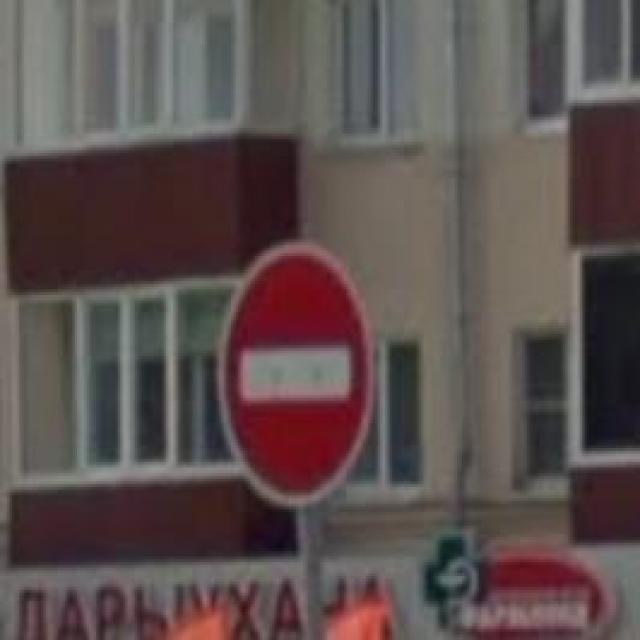Zakaz wjazdu: (217, 242, 376, 509)
